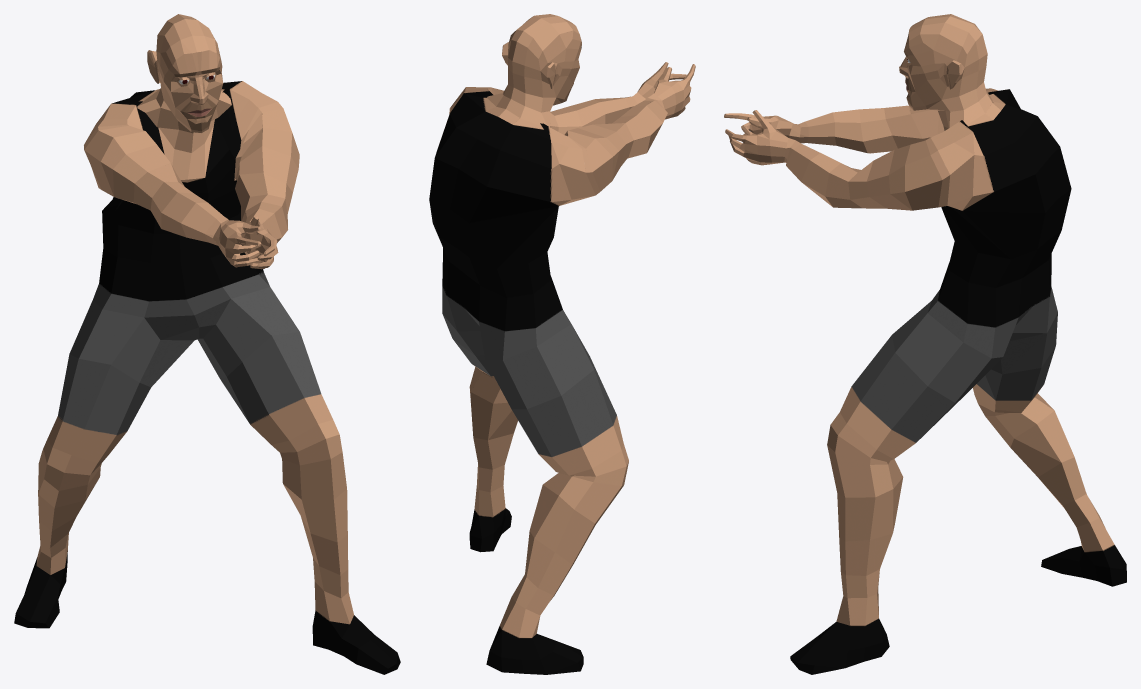
The model's file is PlayerShoot(19).obj.
3 views of the same model, side by side, from view 1: azimuth 30°, elevation 25°; view 2: azimuth 150°, elevation 25°; view 3: azimuth 270°, elevation 25° (orthographic). The views are drawn at different scales.
Visible parts, largest first — view 1: Plane002; view 2: Plane002; view 3: Plane002.
Boxes of the visible parts, bbox=[...] form: Plane002: bbox=[14, 14, 400, 674]; Plane002: bbox=[429, 14, 695, 674]; Plane002: bbox=[724, 14, 1126, 674].
Size of the model in its own units: 718 by 1665 by 1026.
